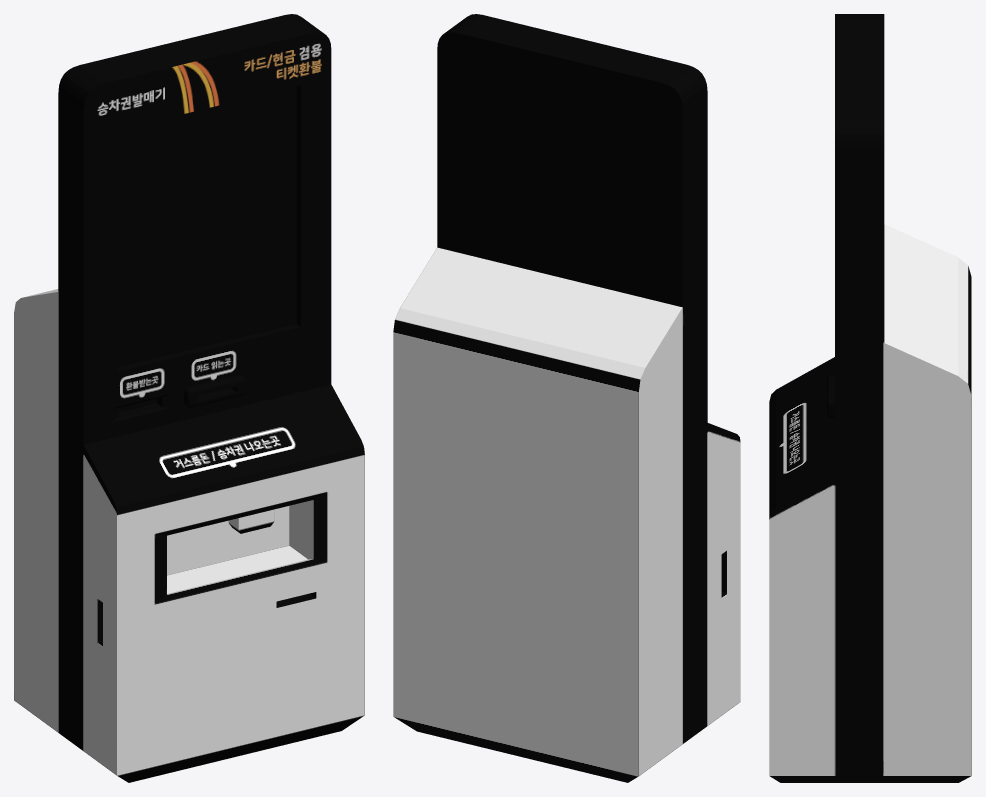
Rendered from BS_Kiosk.fbx.
3 renders of one model, left to right at view 1: azimuth 30°, elevation 25°; view 2: azimuth 150°, elevation 25°; view 3: azimuth 270°, elevation 25°, orthographic.
Parts seen in each view (by area): view 1: BS_kiosk, cardreader2; view 2: BS_kiosk; view 3: BS_kiosk, cardreader2.
Part boxes in pixels (x1,y1,x2,y2): BS_kiosk: (14, 14, 364, 782); cardreader2: (184, 375, 245, 408); BS_kiosk: (393, 14, 740, 782); BS_kiosk: (769, 14, 971, 782); cardreader2: (826, 374, 834, 417).
Bounding box in the file's own units: 23.4 × 61.2 × 16.85.
